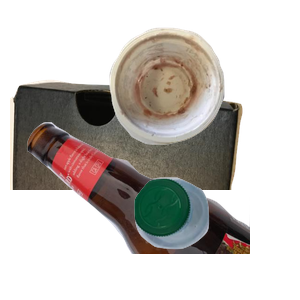cardboard: (10, 77, 245, 257)
glass: (25, 120, 265, 300)
plastic: (132, 176, 300, 300)
trash: (107, 25, 300, 162)
